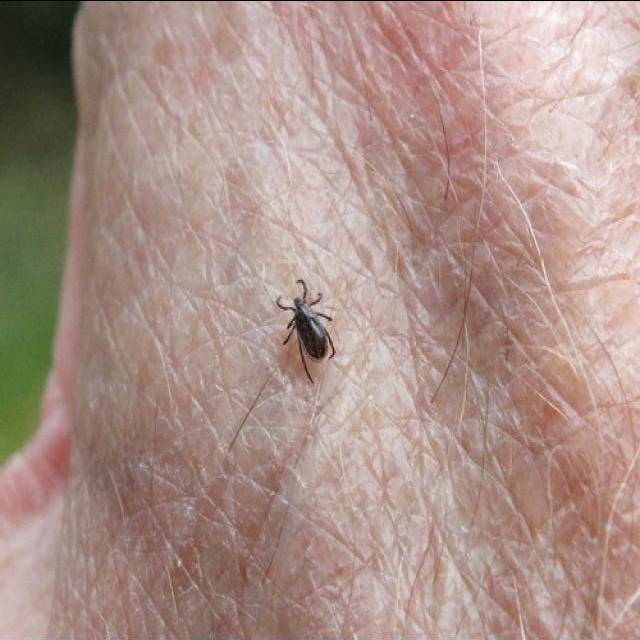Ixodes Ricinus-M: (275, 282, 335, 382)
